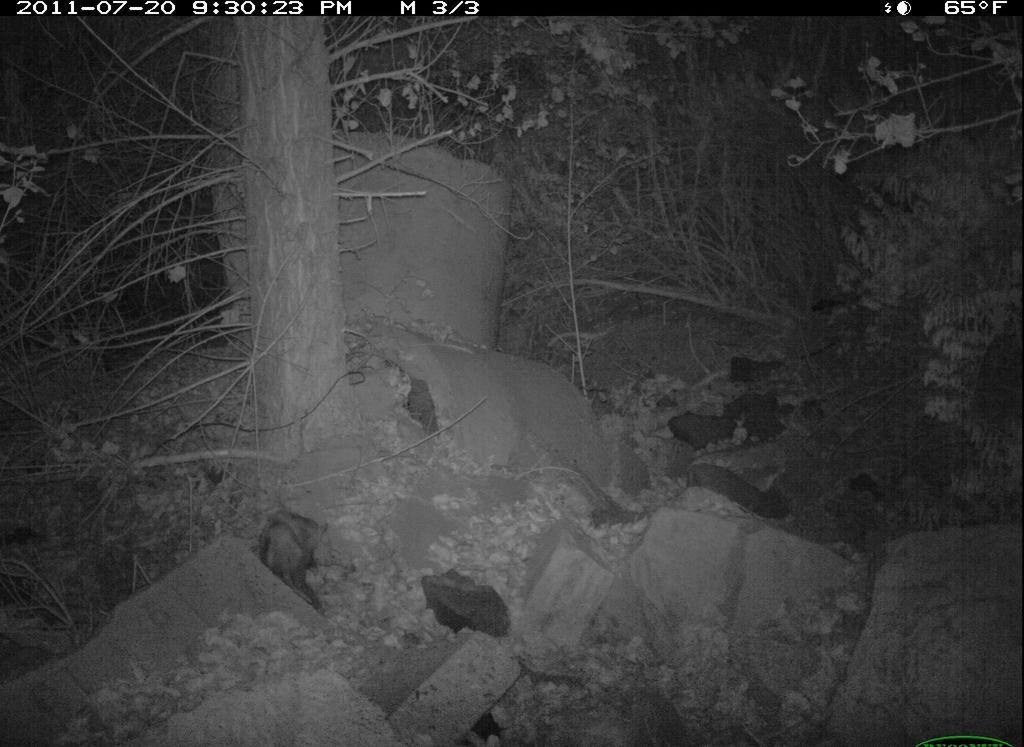opossum: (237, 466, 342, 629)
